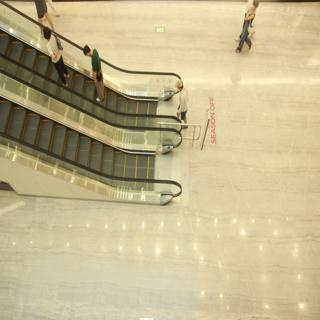person: (225, 1, 267, 65), (79, 41, 118, 99), (41, 24, 74, 86), (169, 73, 194, 123)
